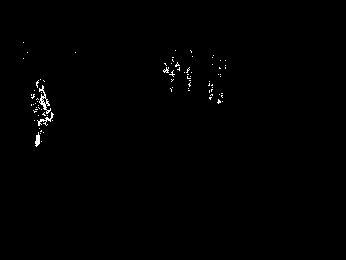person: (30, 80, 55, 148), (164, 54, 182, 90)
